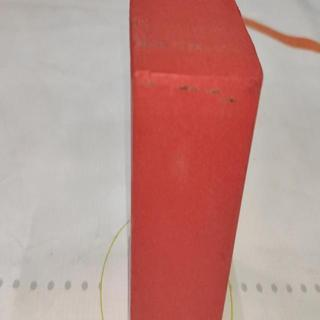redbox: (127, 0, 265, 320)
